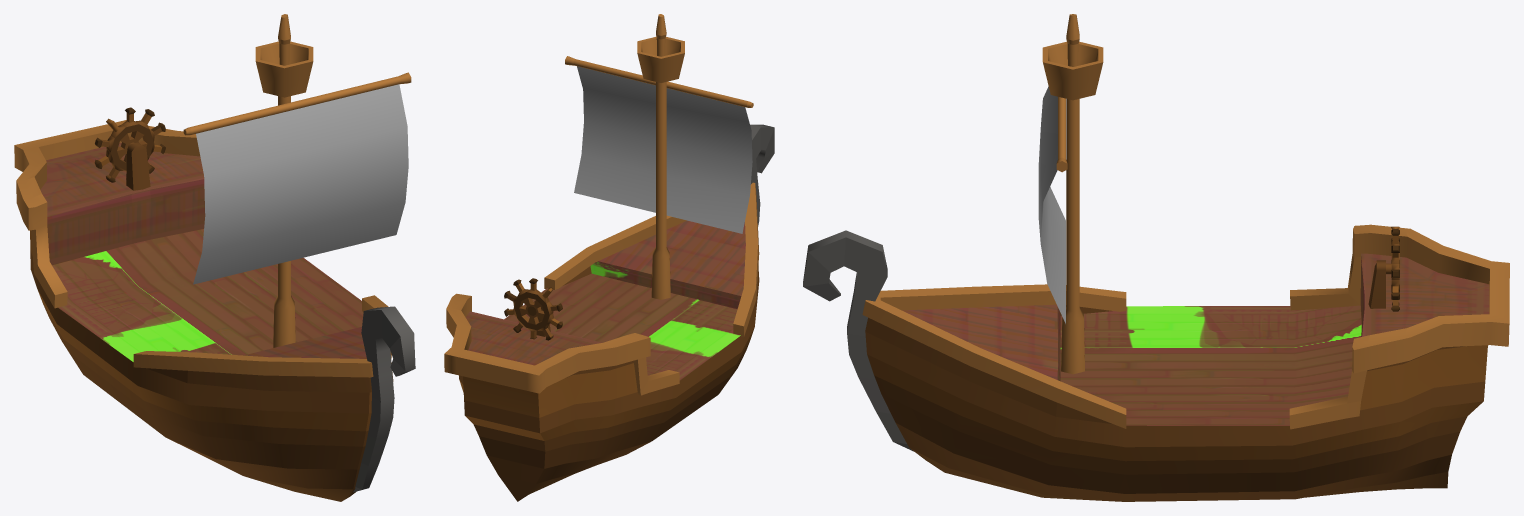
The model's file is shiptestEnemy.fbx.
The picture shows the model from 3 angles, left to right: view 1: azimuth 30°, elevation 25°; view 2: azimuth 150°, elevation 25°; view 3: azimuth 270°, elevation 25°; orthographic projection. The views are drawn at different scales.
Parts seen in each view (by area): view 1: Ship_Enemy1, ShipSail1, Ship_Mast2, Ship_Roer1, Ship_RoerHolder1; view 2: Ship_Enemy1, ShipSail1, Ship_Mast2, Ship_Roer1; view 3: Ship_Enemy1, Ship_Mast2, ShipSail1, Ship_Roer1.
Boxes of the visible parts, bbox=[...] form: Ship_Enemy1: bbox=[14, 120, 415, 501]; ShipSail1: bbox=[193, 84, 408, 284]; Ship_Mast2: bbox=[183, 14, 411, 347]; Ship_Roer1: bbox=[94, 107, 165, 182]; Ship_RoerHolder1: bbox=[126, 142, 150, 190]; Ship_Enemy1: bbox=[444, 124, 774, 501]; ShipSail1: bbox=[574, 66, 752, 233]; Ship_Mast2: bbox=[565, 14, 753, 299]; Ship_Roer1: bbox=[504, 278, 562, 340]; Ship_Enemy1: bbox=[803, 224, 1509, 501]; Ship_Mast2: bbox=[1042, 14, 1103, 374]; ShipSail1: bbox=[1038, 86, 1065, 323]; Ship_Roer1: bbox=[1386, 226, 1399, 311].
Size of the model in its own units: 296 by 539 by 707.
3 materials, 2 textured.
